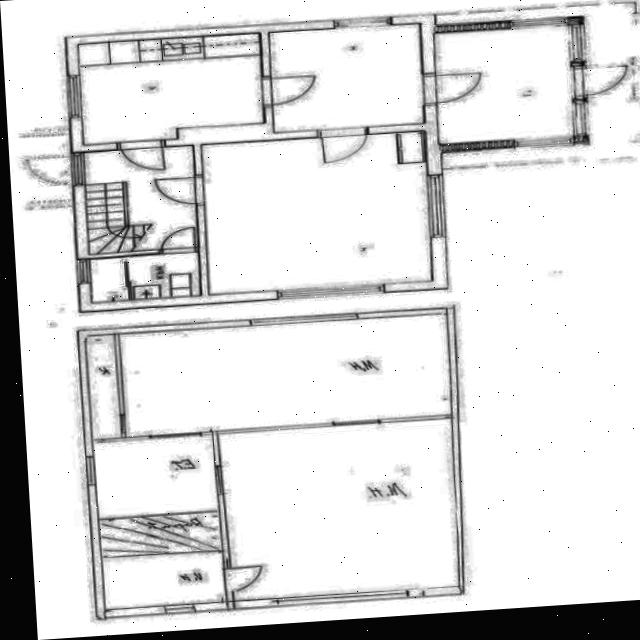room: (219, 417, 462, 600), (119, 310, 453, 436), (201, 130, 434, 293), (91, 431, 226, 611), (77, 31, 266, 144), (269, 23, 425, 131), (433, 25, 575, 143), (83, 144, 199, 253), (90, 251, 200, 301)
